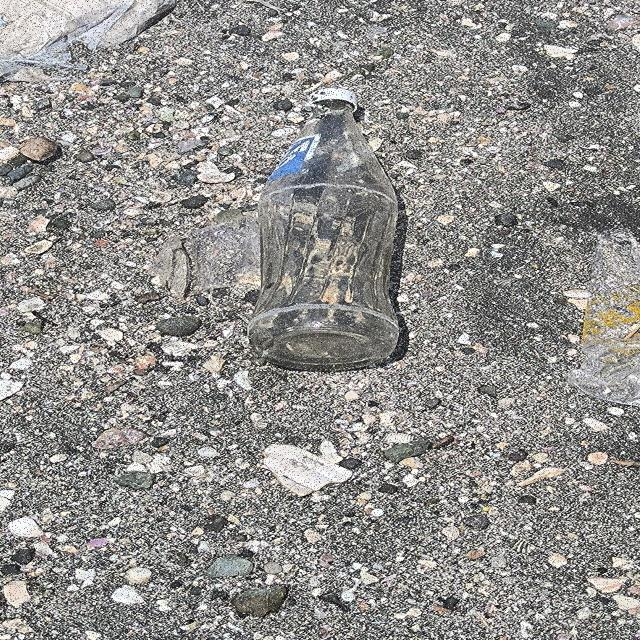glass_waste: (245, 87, 408, 374)
